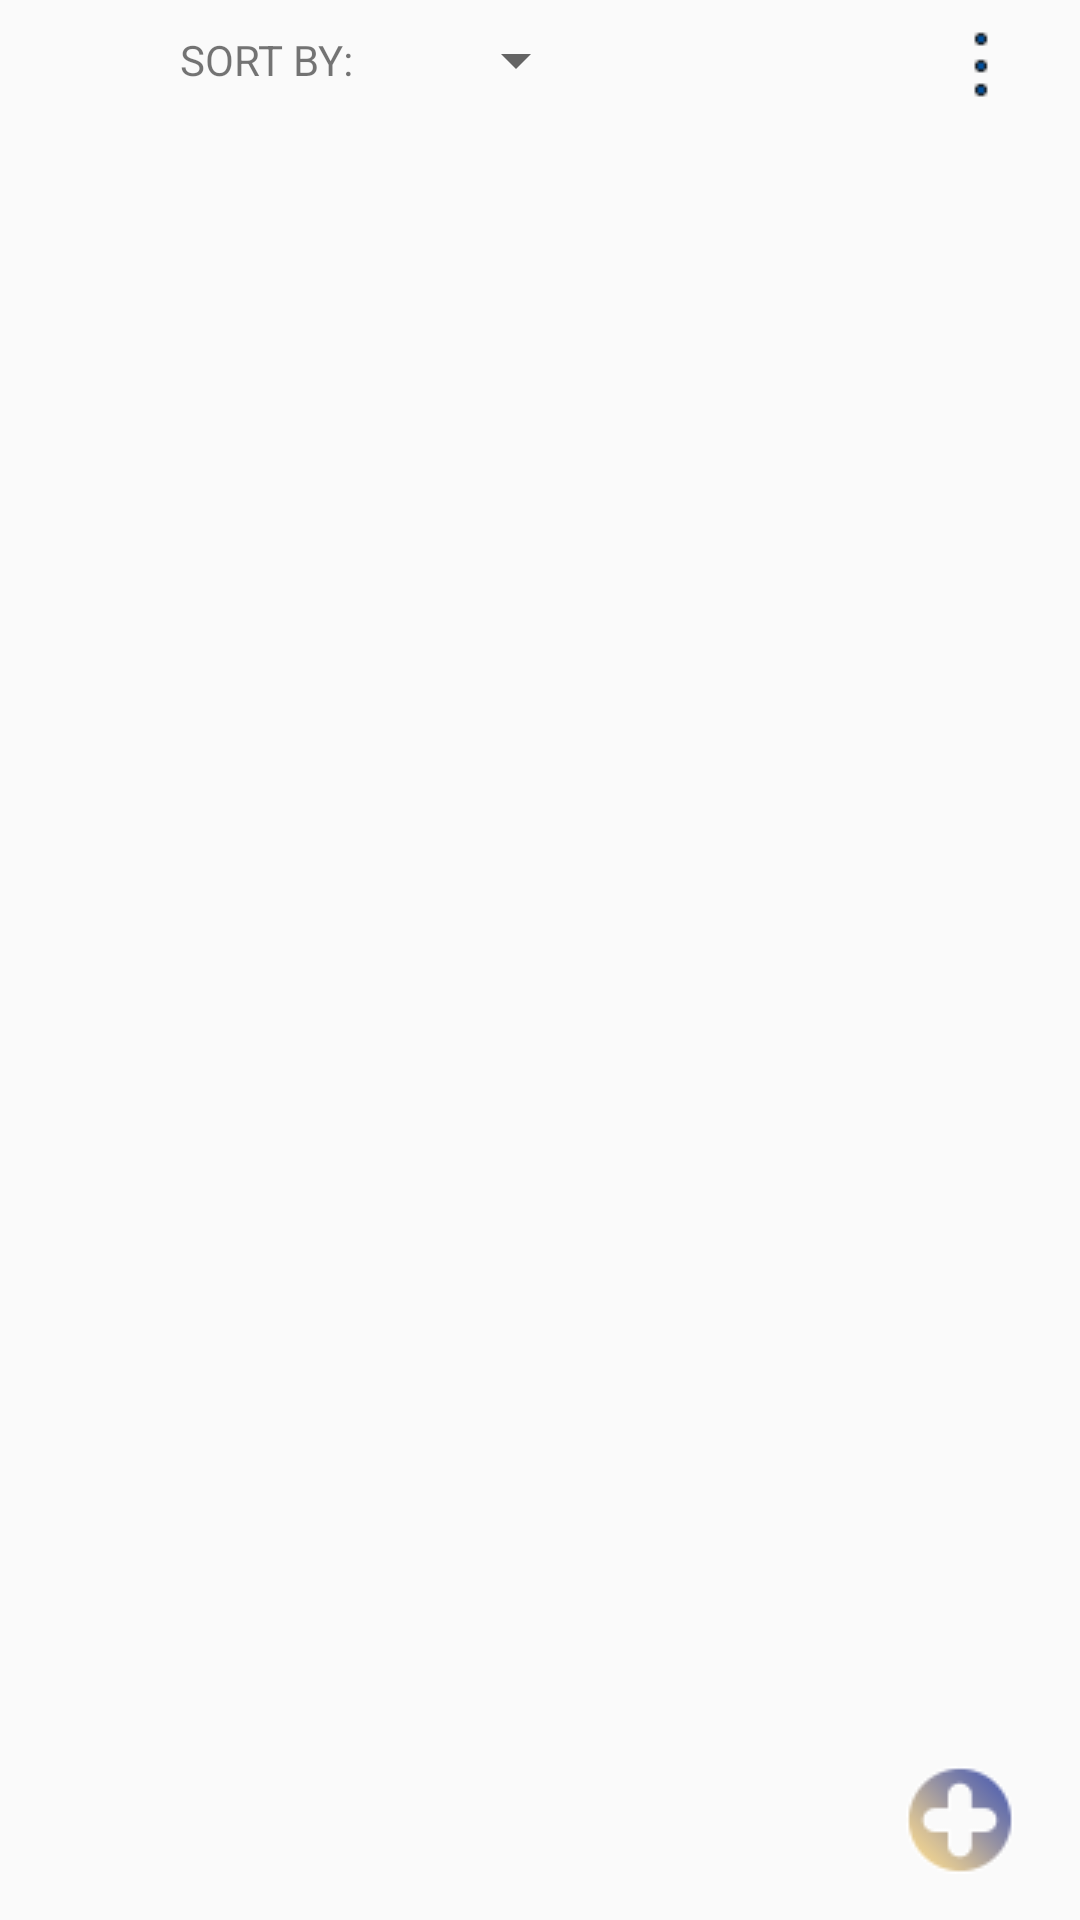

Point at icon controls on the screen. Image size 1080 x 1920, points as point (x, y).
menu: point (981, 64)
